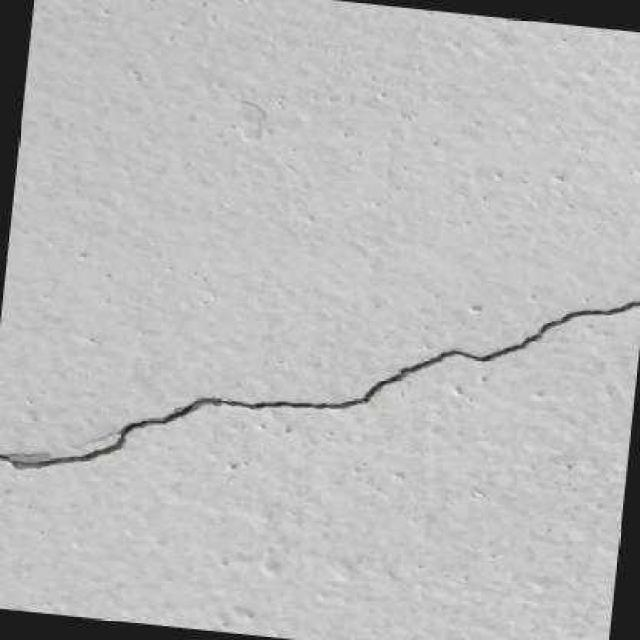D00: (0, 300, 640, 469)
